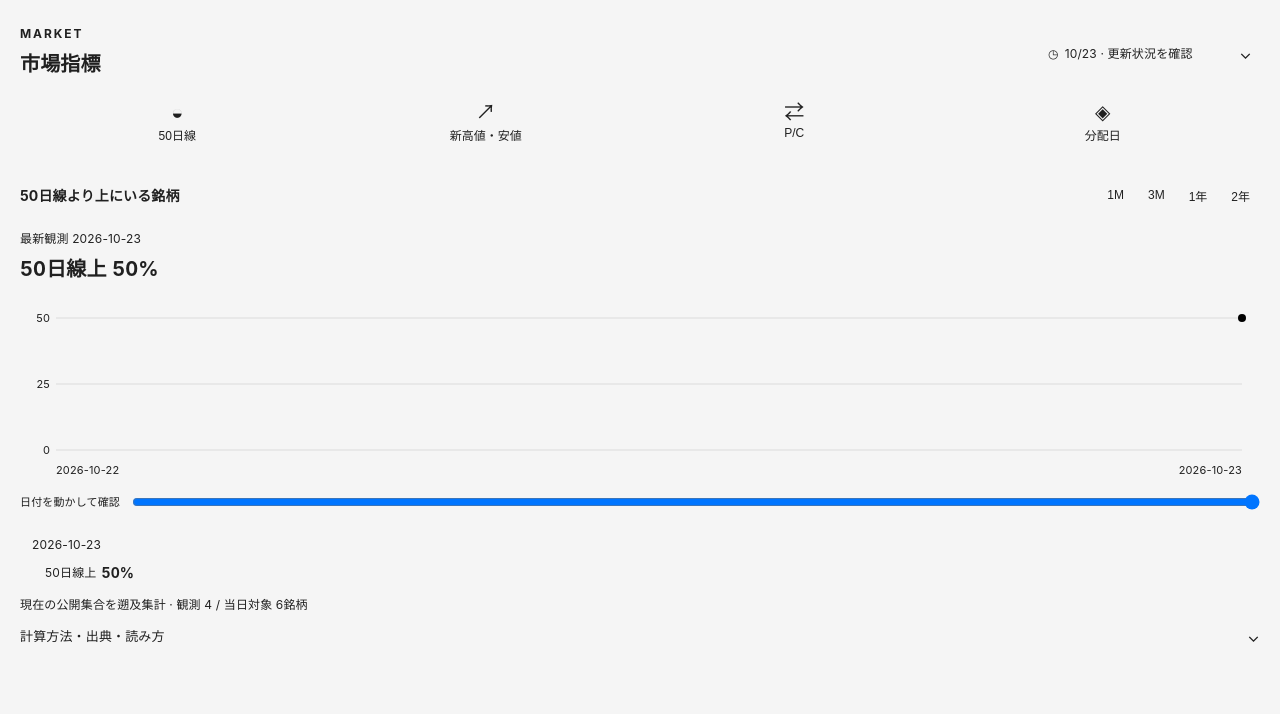
it: market trend dashboard › shows both independent index counts and switches chart data
The width and height of the screenshot is (1280, 714).
Click the tab "◈ 分配日" at (1103, 122), box [952,94,1254,151]
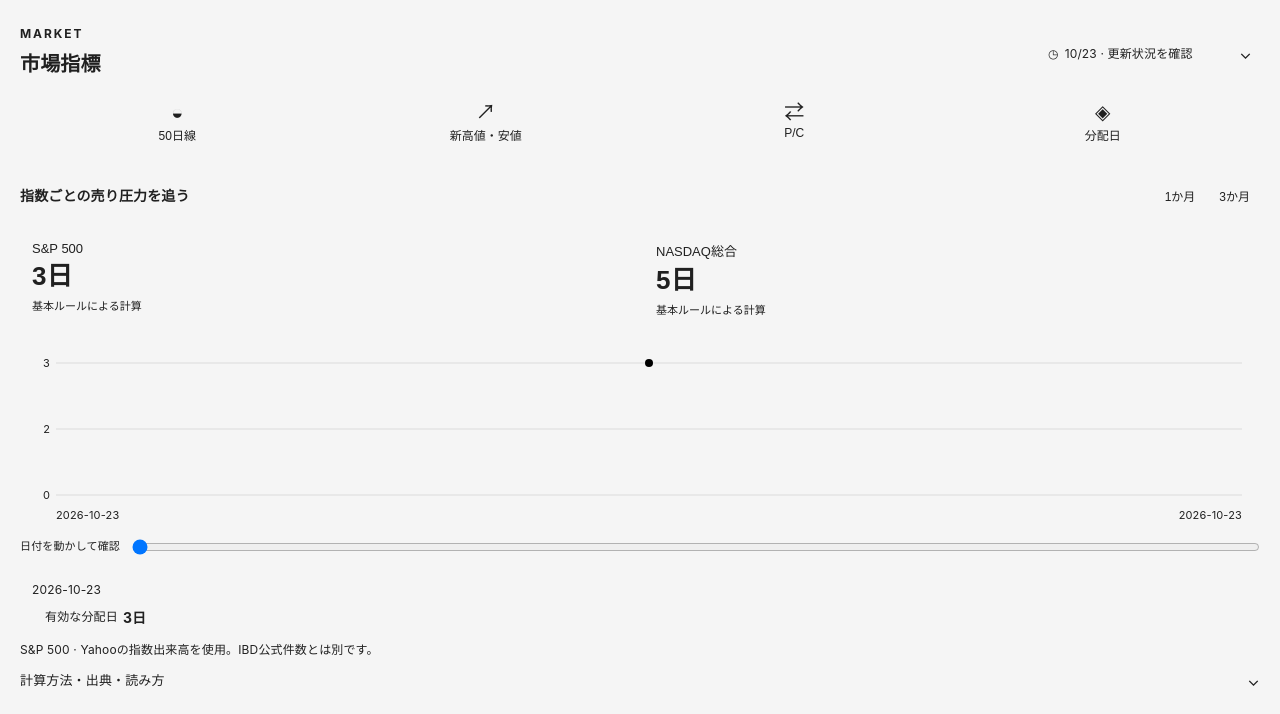
Expected: the button "S&P 500 3日 基本ルールによる計算" is shown, [20,229,636,329]
Click the button "NASDAQ総合 5日 基本ルールによる計算" at (696, 252), box [644,229,1260,329]
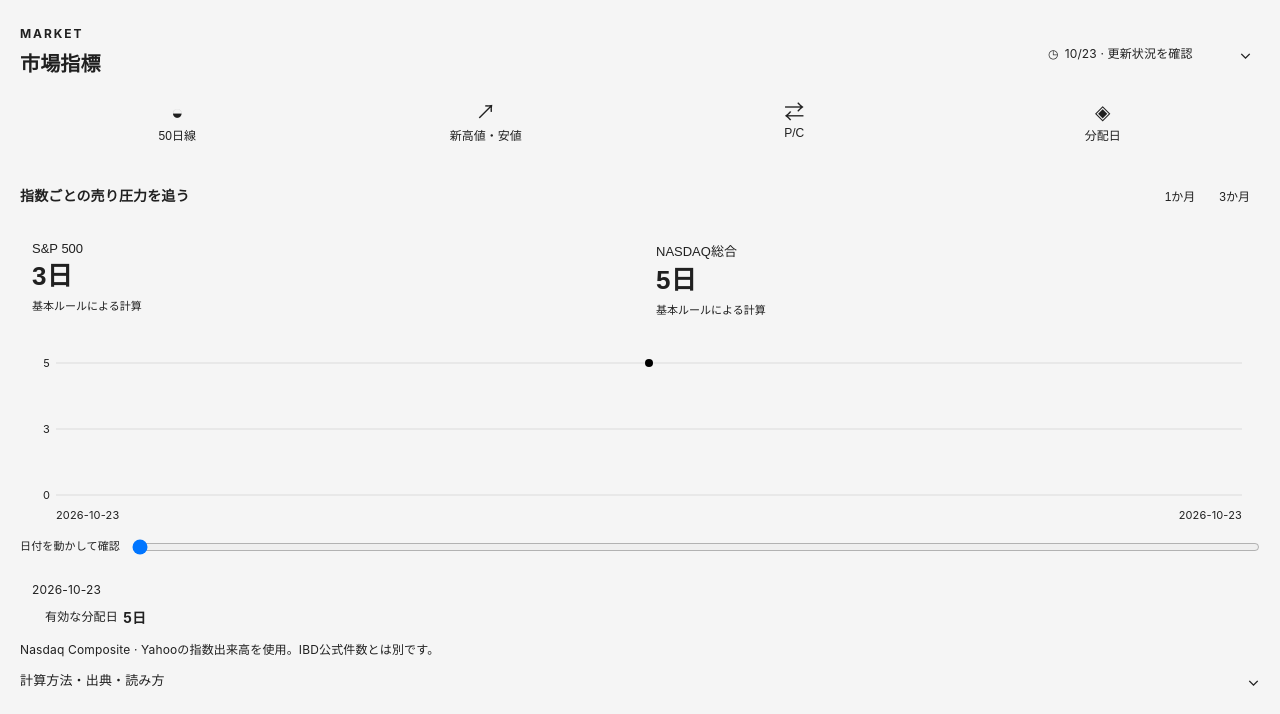
Expected: the text "5日" next to "有効な分配日" is shown, [123,607,146,628]
